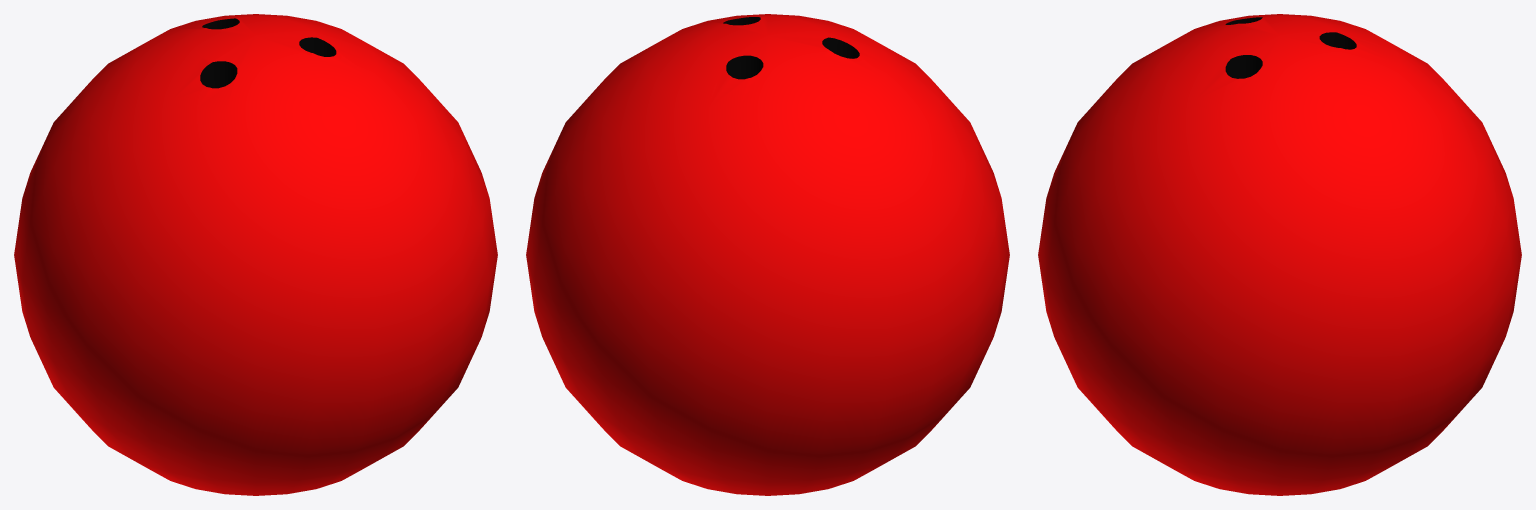
Rendered from ball.FBX.
The picture shows the model from 3 angles, left to right: view 1: azimuth 30°, elevation 25°; view 2: azimuth 150°, elevation 25°; view 3: azimuth 270°, elevation 25°; orthographic projection.
Parts seen in each view (by area): view 1: Sphere001; view 2: Sphere001; view 3: Sphere001.
Part boxes in pixels (x1,y1,x2,y2): Sphere001: (14,14,497,495); Sphere001: (526,14,1009,495); Sphere001: (1038,14,1521,495).
Bounding box in the file's own units: 39.71 × 39.71 × 39.71.
